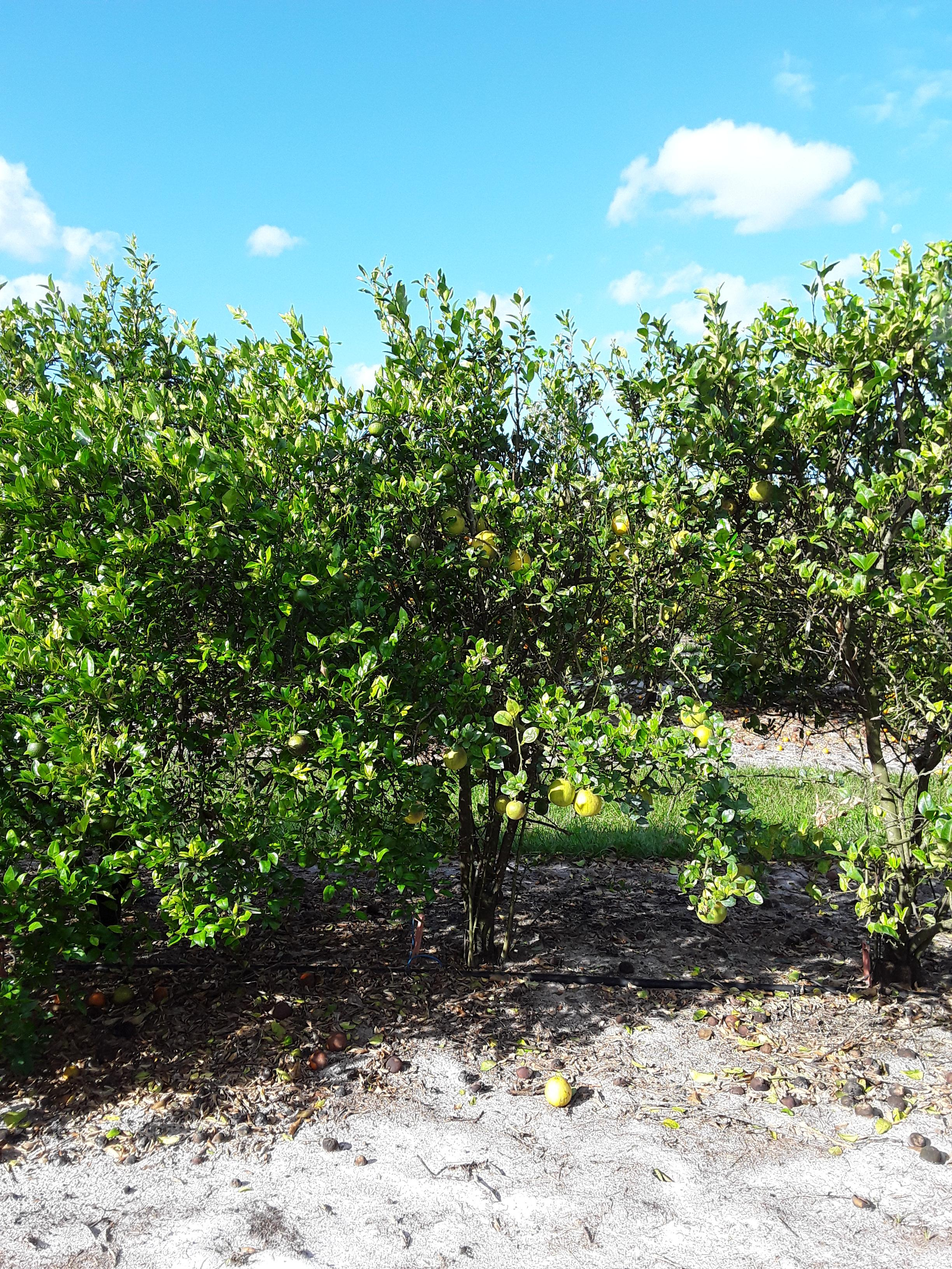fruit_on_ground: (569, 785, 606, 820), (156, 891, 191, 928), (693, 891, 729, 925), (435, 503, 467, 540), (604, 538, 639, 570), (625, 783, 657, 814), (729, 860, 759, 893), (850, 376, 881, 407), (470, 531, 502, 561), (548, 776, 577, 806), (506, 547, 535, 575), (658, 597, 686, 626), (441, 743, 469, 771), (680, 700, 710, 726), (668, 530, 700, 554), (749, 448, 775, 476), (399, 799, 424, 828), (748, 477, 776, 502), (689, 726, 718, 750), (284, 735, 314, 757), (504, 799, 530, 821), (609, 513, 632, 535), (27, 738, 51, 759), (324, 481, 348, 501), (102, 811, 124, 832), (493, 794, 513, 814), (475, 550, 495, 569), (743, 652, 765, 669), (365, 423, 388, 439), (156, 363, 174, 383), (403, 534, 424, 551), (439, 462, 458, 479), (329, 568, 345, 585), (293, 586, 309, 603)
fruit_on_tree: (542, 1073, 576, 1111), (326, 1028, 350, 1053), (307, 1049, 332, 1073), (903, 1131, 931, 1152), (112, 986, 139, 1007), (268, 1001, 297, 1020), (851, 1101, 880, 1120), (918, 1145, 943, 1166), (147, 984, 174, 1003), (895, 1045, 922, 1063), (87, 988, 109, 1010), (886, 1092, 908, 1114), (251, 1110, 274, 1131), (296, 970, 321, 989), (781, 1095, 804, 1114), (793, 1073, 813, 1093), (618, 957, 639, 976), (723, 1014, 745, 1032), (761, 1058, 778, 1080), (515, 1063, 537, 1080), (321, 1137, 343, 1154), (385, 1055, 404, 1074), (750, 1075, 768, 1093), (755, 1012, 774, 1028), (55, 992, 75, 1007), (60, 1067, 81, 1080), (364, 904, 383, 918), (758, 1042, 777, 1056), (705, 1011, 720, 1028), (190, 1130, 207, 1145), (353, 1154, 370, 1169), (799, 930, 817, 944), (766, 894, 782, 909), (784, 935, 803, 947), (0, 1126, 12, 1145), (760, 899, 775, 912), (804, 926, 820, 938), (828, 869, 842, 881), (773, 916, 787, 928), (634, 931, 646, 944), (712, 947, 725, 958), (821, 747, 831, 756), (775, 744, 784, 752), (756, 743, 765, 751), (781, 736, 789, 743)
